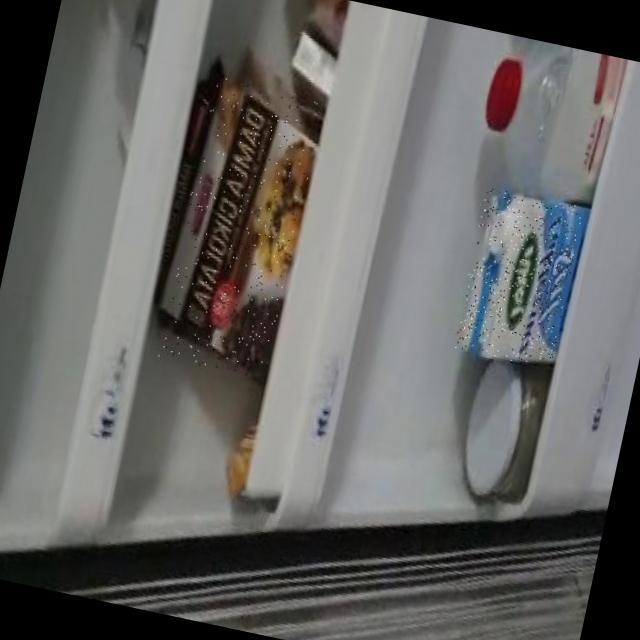chocolate: (155, 73, 325, 378)
milk: (453, 185, 585, 368)
